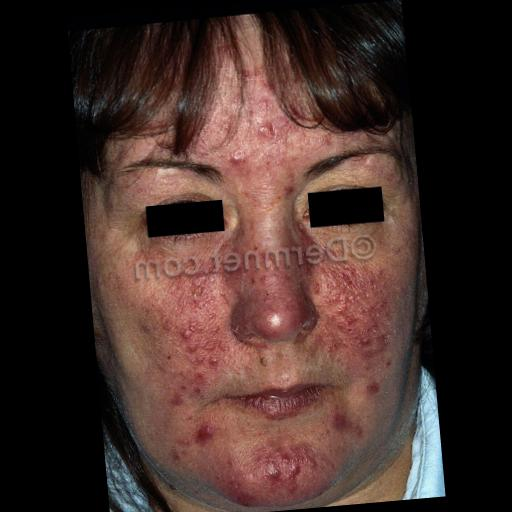Skin_Lesion: (274, 186, 316, 284), (324, 312, 384, 360), (256, 441, 306, 496), (183, 262, 218, 310), (322, 264, 361, 298), (200, 338, 232, 378), (228, 478, 260, 510), (254, 298, 284, 332), (144, 312, 172, 348), (173, 315, 200, 352), (253, 106, 275, 148), (193, 410, 215, 450), (331, 398, 352, 438), (173, 365, 198, 398), (364, 366, 388, 400), (227, 148, 247, 178), (163, 441, 183, 471), (242, 62, 256, 88)
